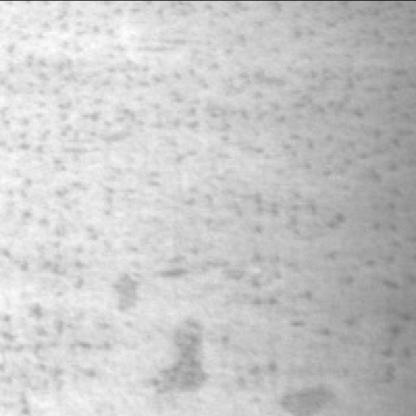pitted_surface: (8, 0, 415, 376), (4, 283, 341, 412)
